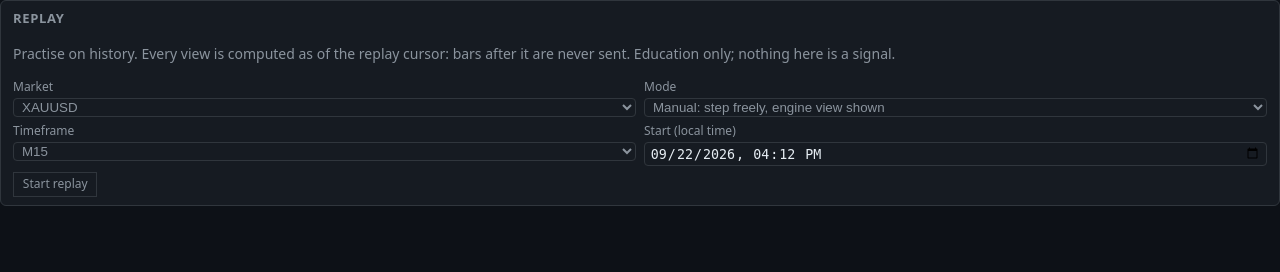
ReplayView › shows a rejected or failed response instead of stale data
Click the button "Start replay" at (55, 184), box left=13, top=172, right=98, bottom=197
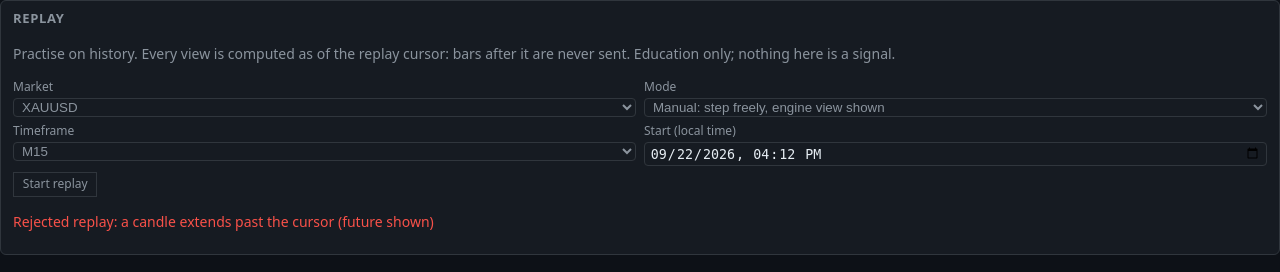
expect the message with test id "replay-error" shows "future shown": met, box left=13, top=212, right=434, bottom=231
